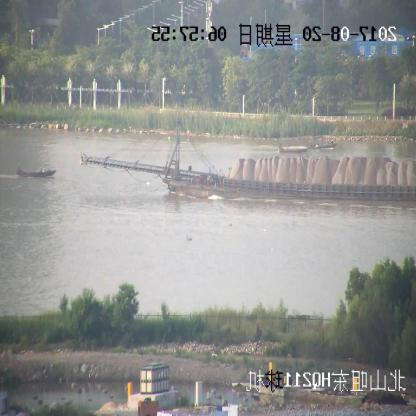Fishing Boat: (16, 164, 56, 178), (277, 142, 307, 154), (308, 139, 336, 150)
